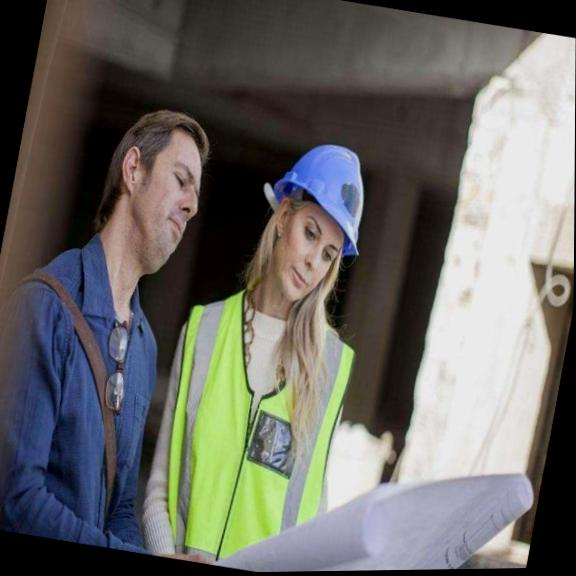no_safety_vest: (0, 224, 193, 554)
safety_vest: (149, 269, 373, 572)
